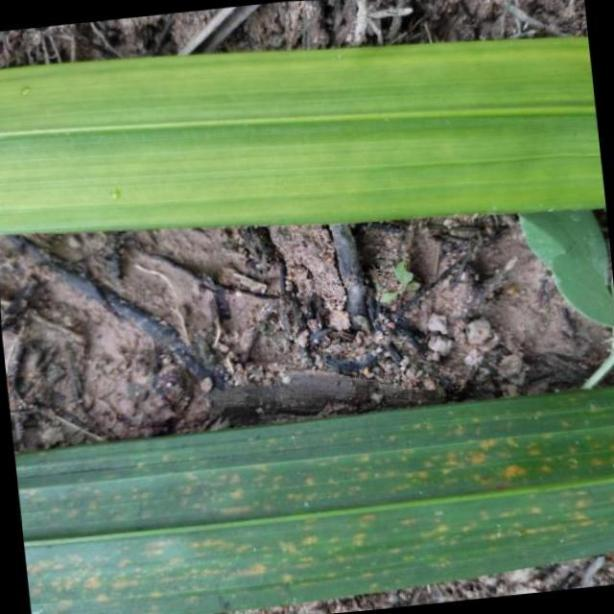nitrogen: (5, 32, 614, 232)
